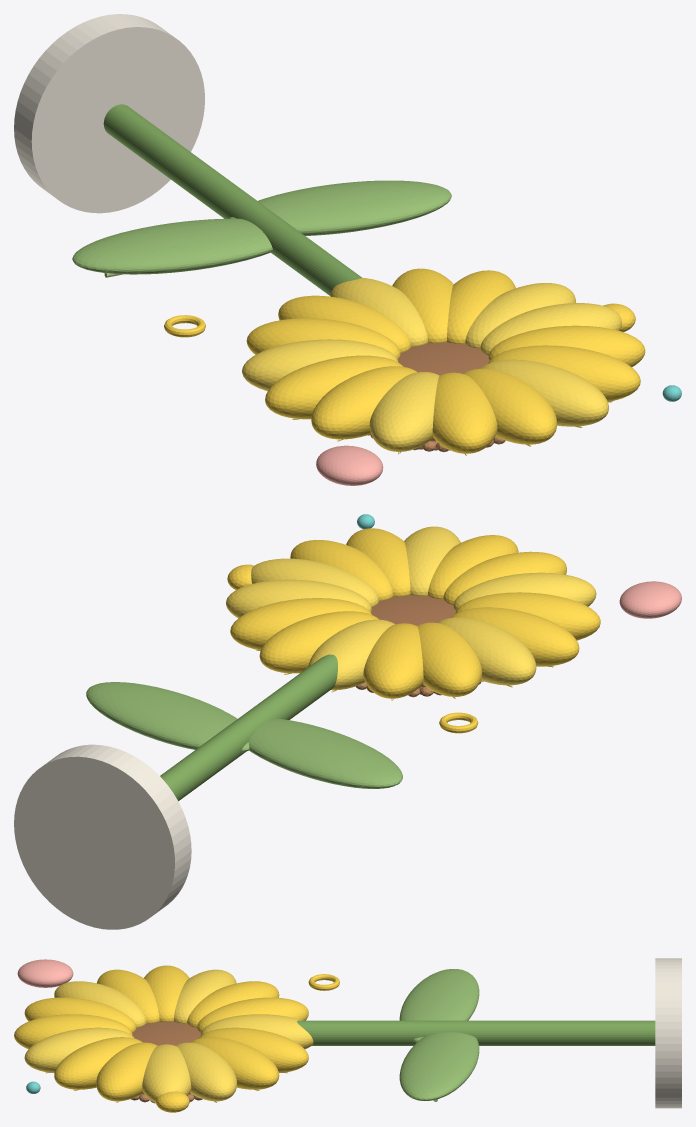
Rendered from sunny-character.glb.
The picture shows the model from 3 angles, top to bottom: view 1: azimuth 30°, elevation 25°; view 2: azimuth 150°, elevation 25°; view 3: azimuth 270°, elevation 25°; orthographic projection. The views are drawn at different scales.
Visible parts, largest first — view 1: round_display_base, green_stem, leaf_-1, leaf_1, yellow_petal_05, yellow_petal_06, yellow_petal_04, yellow_petal_07, yellow_petal_03, yellow_petal_08, yellow_petal_02, yellow_petal_09 (+10 smaller); view 2: round_display_base, leaf_-1, leaf_1, green_stem, yellow_petal_11, yellow_petal_10, yellow_petal_09, yellow_petal_13, yellow_petal_08, yellow_petal_14, yellow_petal_07, yellow_petal_15 (+10 smaller); view 3: green_stem, leaf_1, round_display_base, leaf_-1, yellow_petal_01, yellow_petal_15, yellow_petal_02, yellow_petal_14, yellow_petal_03, yellow_petal_13, yellow_petal_00, yellow_petal_04 (+12 smaller).
Part boxes in pixels (x1,y1,x2,y2): round_display_base: (14,14,204,213); green_stem: (103,104,362,295); leaf_-1: (72,218,272,274); leaf_1: (229,180,451,235); yellow_petal_05: (432,372,497,453); yellow_petal_06: (369,372,439,451); yellow_petal_04: (463,368,556,444); yellow_petal_07: (311,366,417,439); yellow_petal_03: (480,359,608,426); yellow_petal_08: (265,355,403,419); yellow_petal_02: (488,345,640,401); yellow_petal_09: (242,339,398,391); round_display_base: (14,744,191,929); leaf_-1: (248,718,402,788); leaf_1: (86,682,249,752); green_stem: (160,654,337,800); yellow_petal_11: (363,623,423,698); yellow_petal_10: (417,622,482,696); yellow_petal_09: (438,617,536,685); yellow_petal_13: (259,611,378,673); yellow_petal_08: (451,607,579,666); yellow_petal_14: (230,598,371,650); yellow_petal_07: (455,592,600,640); yellow_petal_15: (226,579,371,618); green_stem: (297,1020,655,1045); leaf_1: (399,1032,479,1100); round_display_base: (655,958,681,1108); leaf_-1: (399,969,479,1042); yellow_petal_01: (96,1042,157,1101); yellow_petal_15: (176,1042,236,1101); yellow_petal_02: (54,1037,142,1089); yellow_petal_14: (191,1037,279,1089); yellow_petal_03: (24,1027,134,1073); yellow_petal_13: (199,1027,308,1073); yellow_petal_00: (142,1044,191,1102); yellow_petal_04: (14,1014,132,1049).
Size of the model in its own units: 2.83 by 1.24 by 5.51.
